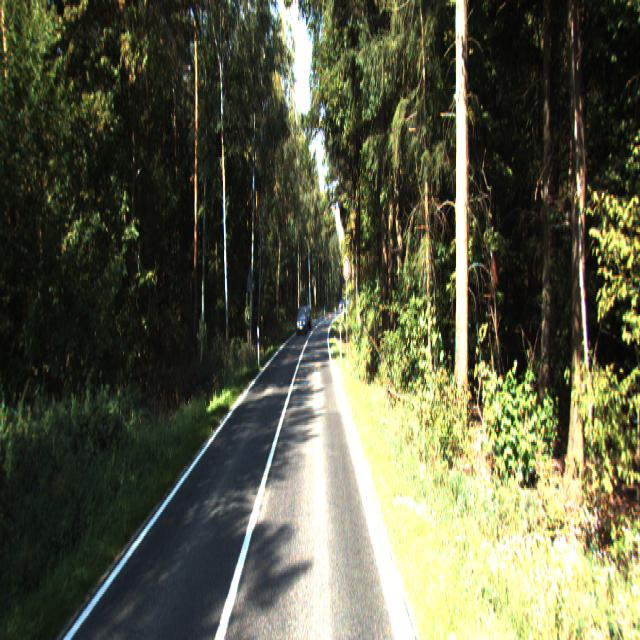Car: (296, 307, 308, 336)
